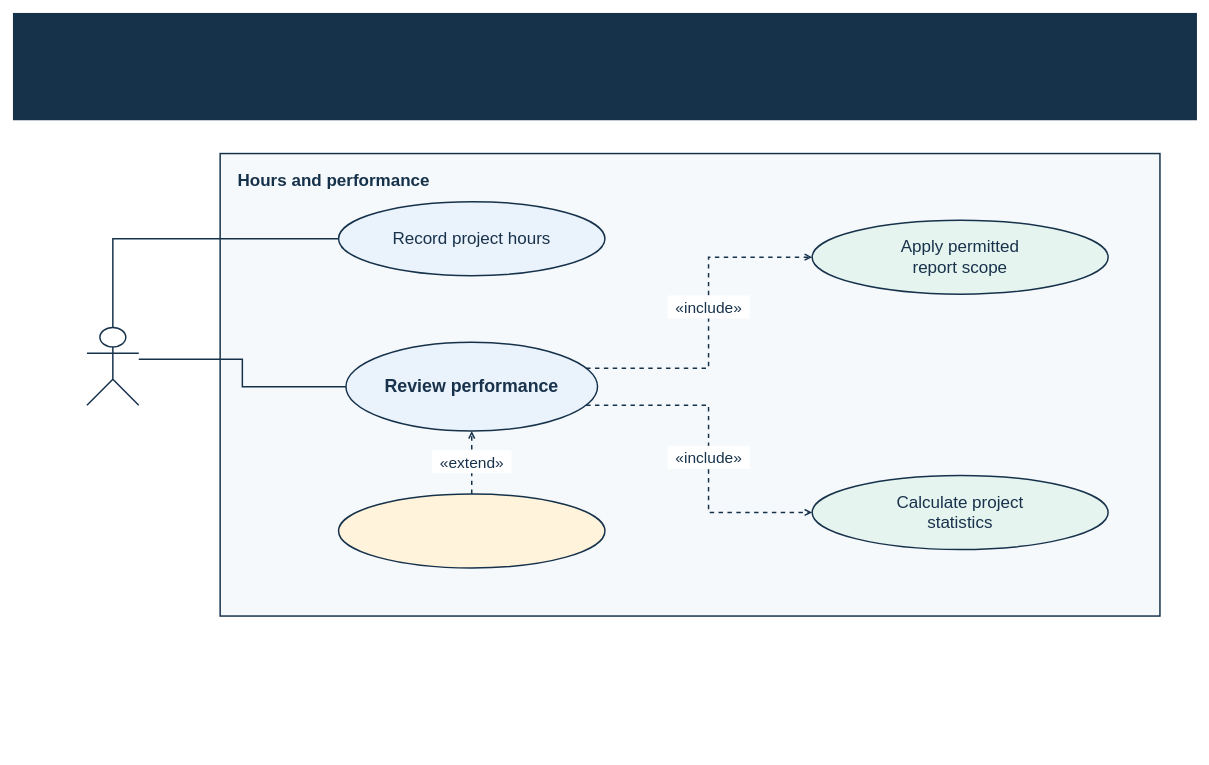
The diagram is 1209 pixels wide and 765 high, and some of its shapes have lost their labels. The centre of each missing label's shape, as x and y in pixels:
"Review individual performance" goes at [471,530].
"Review project performance" goes at [605,66].
"Signed-in project user" goes at [112,366].
